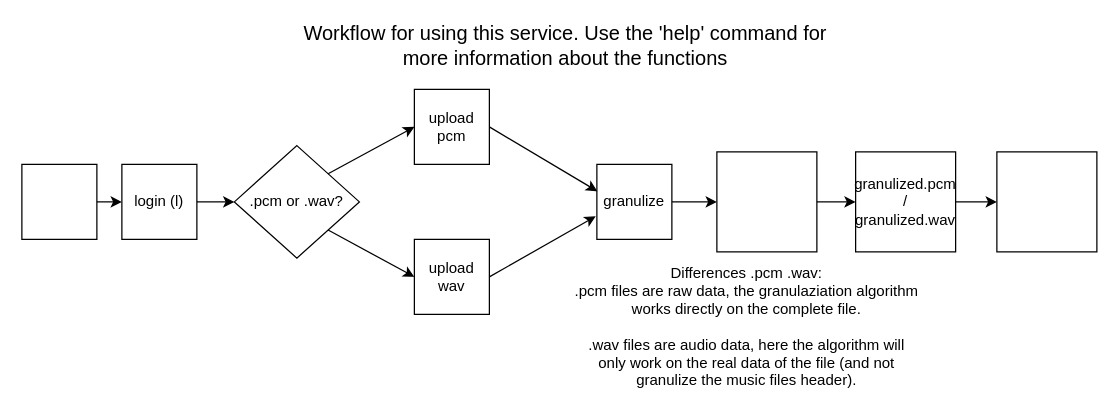
Some shapes in this 1119 by 411 pixel diagram are drawn without their labels. The shapes that lost their labels are listed below. From the top down, each one's box as (x1, y1, x2, y2) in pixels, then its label:
(21, 163, 97, 239): register (r)
(716, 151, 817, 252): download pcm / download wav
(996, 151, 1097, 252): Done!
